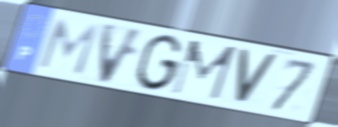7: (269, 57, 319, 113)
G: (132, 32, 185, 93)
M: (168, 38, 240, 103), (36, 17, 102, 78)
V: (96, 19, 148, 87), (234, 46, 281, 108)
